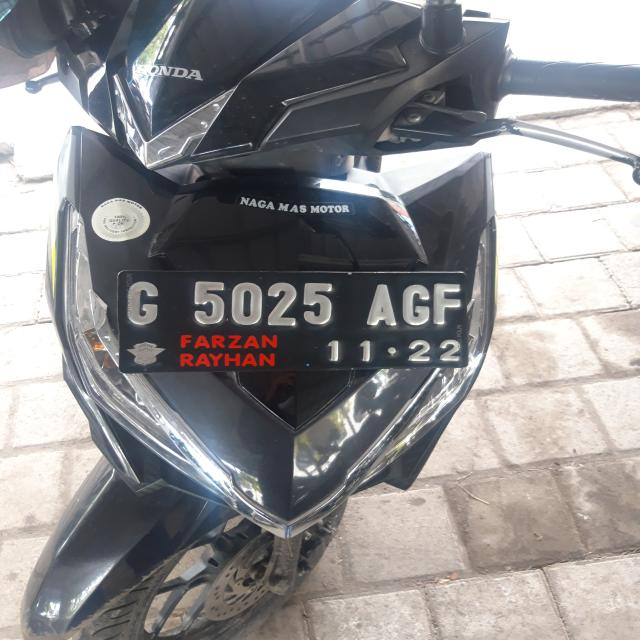plate: (122, 270, 467, 370)
